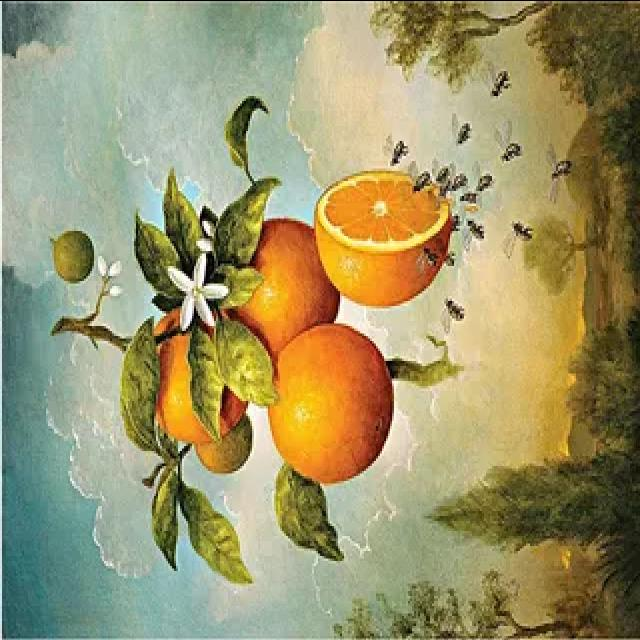orange: (262, 312, 407, 488)
